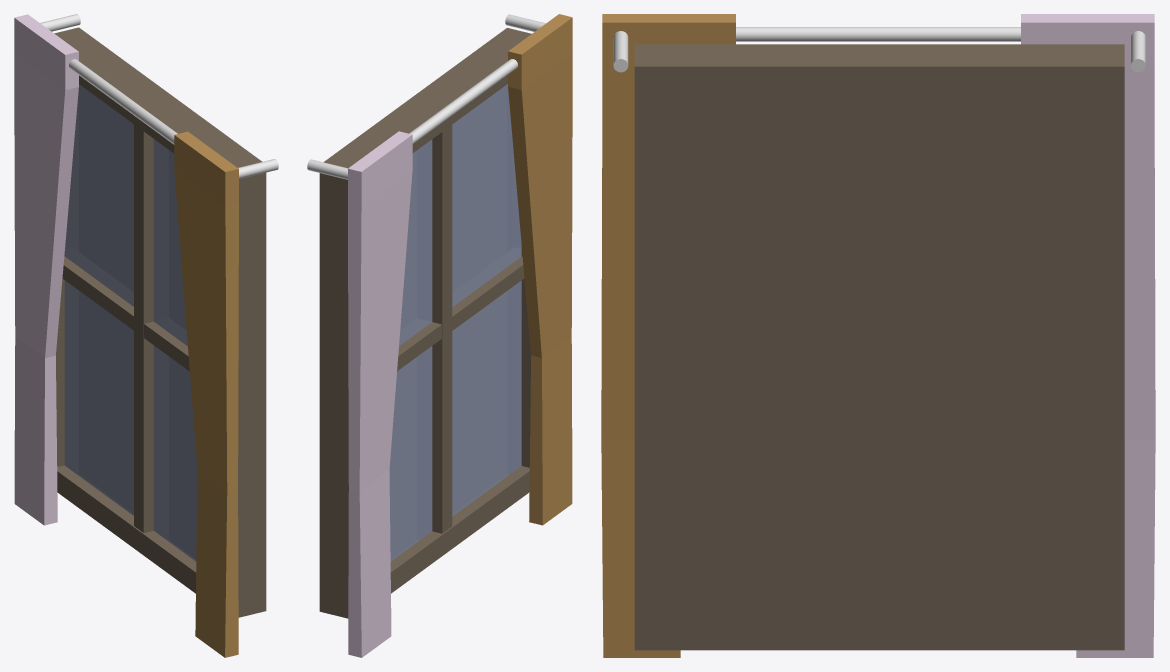
The model's file is fenetre_03.fbx.
3 views of the same model, side by side, from view 1: azimuth 30°, elevation 25°; view 2: azimuth 150°, elevation 25°; view 3: azimuth 270°, elevation 25° (orthographic). The views are drawn at different scales.
Parts seen in each view (by area): view 1: pCube14, pasted__pCube15, pCube15, pasted__pCube14, pasted__pCube16, pCylinder20, pasted__pasted__pCylinder20, pasted__pCylinder20; view 2: pCube14, pCube15, pasted__pCube15, pasted__pCube14, pasted__pCube16, pCylinder20, pasted__pCylinder20, pasted__pasted__pCylinder20; view 3: pCube14, pasted__pCube15, pCube15, pCylinder20.
Part boxes in pixels (x1,y1,x2,y2): pCube14: (54,27,266,617); pasted__pCube15: (174,131,238,657); pCube15: (14,14,78,525); pasted__pCube14: (134,124,153,532); pasted__pCube16: (62,256,189,370); pCylinder20: (69,59,177,144); pasted__pasted__pCylinder20: (238,159,278,178); pasted__pCylinder20: (40,14,80,31); pCube14: (319,28,531,618); pCube15: (348,131,412,657); pasted__pCube15: (508,14,572,525); pasted__pCube14: (432,125,452,533); pasted__pCube16: (397,256,524,371); pCylinder20: (409,59,517,144); pasted__pCylinder20: (307,159,347,179); pasted__pasted__pCylinder20: (505,14,545,31); pCube14: (634,44,1124,650); pasted__pCube15: (601,14,735,657); pCube15: (1021,14,1155,657); pCylinder20: (736,27,1020,41).
Bounding box in the file's own units: 1.06 × 8.56 × 6.77.
